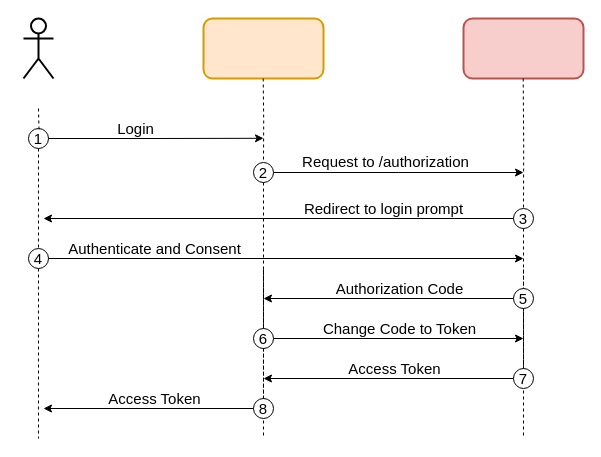
This 601x457 diagram has some shape labels left out. The centre of each missing label's shape, as x and y in pixels:
"Application" goes at [263,48].
"Identity Provider" goes at [523,48].
"USER" goes at [38,48].
